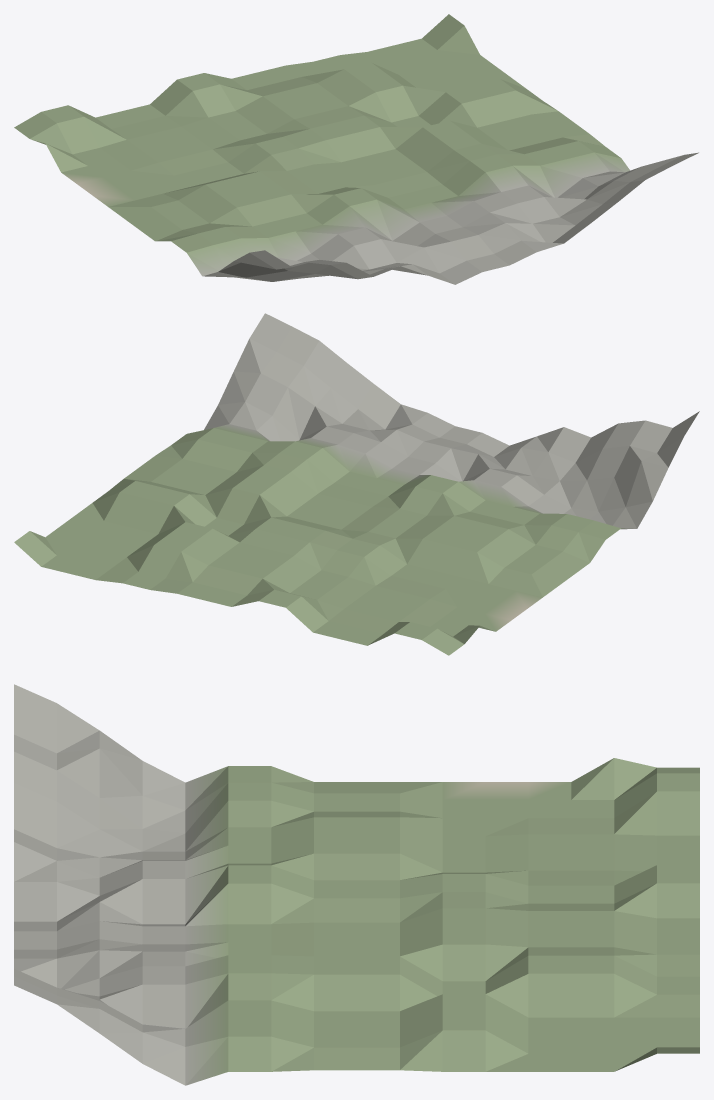
3 renders of one model, top to bottom at view 1: azimuth 30°, elevation 25°; view 2: azimuth 150°, elevation 25°; view 3: azimuth 270°, elevation 25°, orthographic. The views are drawn at different scales.
Bounding box in the file's own units: 32 × 5.83 × 32.
